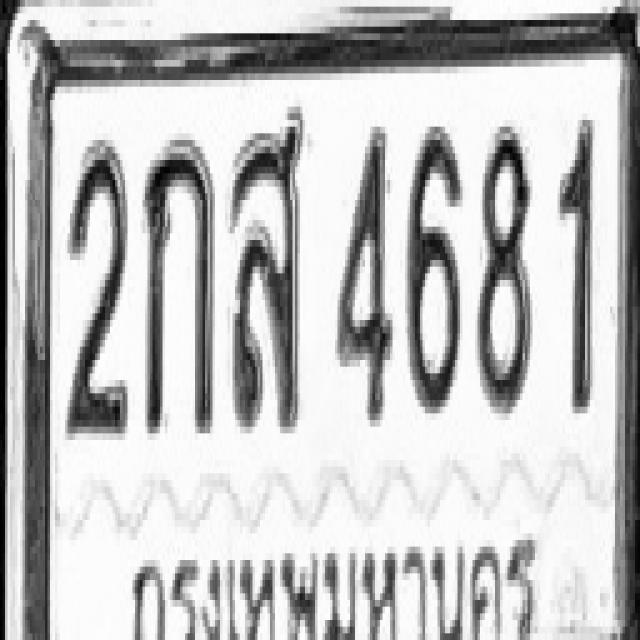1: (558, 114, 592, 414)
10GorGai: (142, 134, 212, 434)
2: (65, 136, 127, 436)
4: (335, 124, 393, 424)
49SorSuea: (228, 110, 304, 430)
6: (406, 120, 462, 413)
8: (475, 120, 530, 413)
